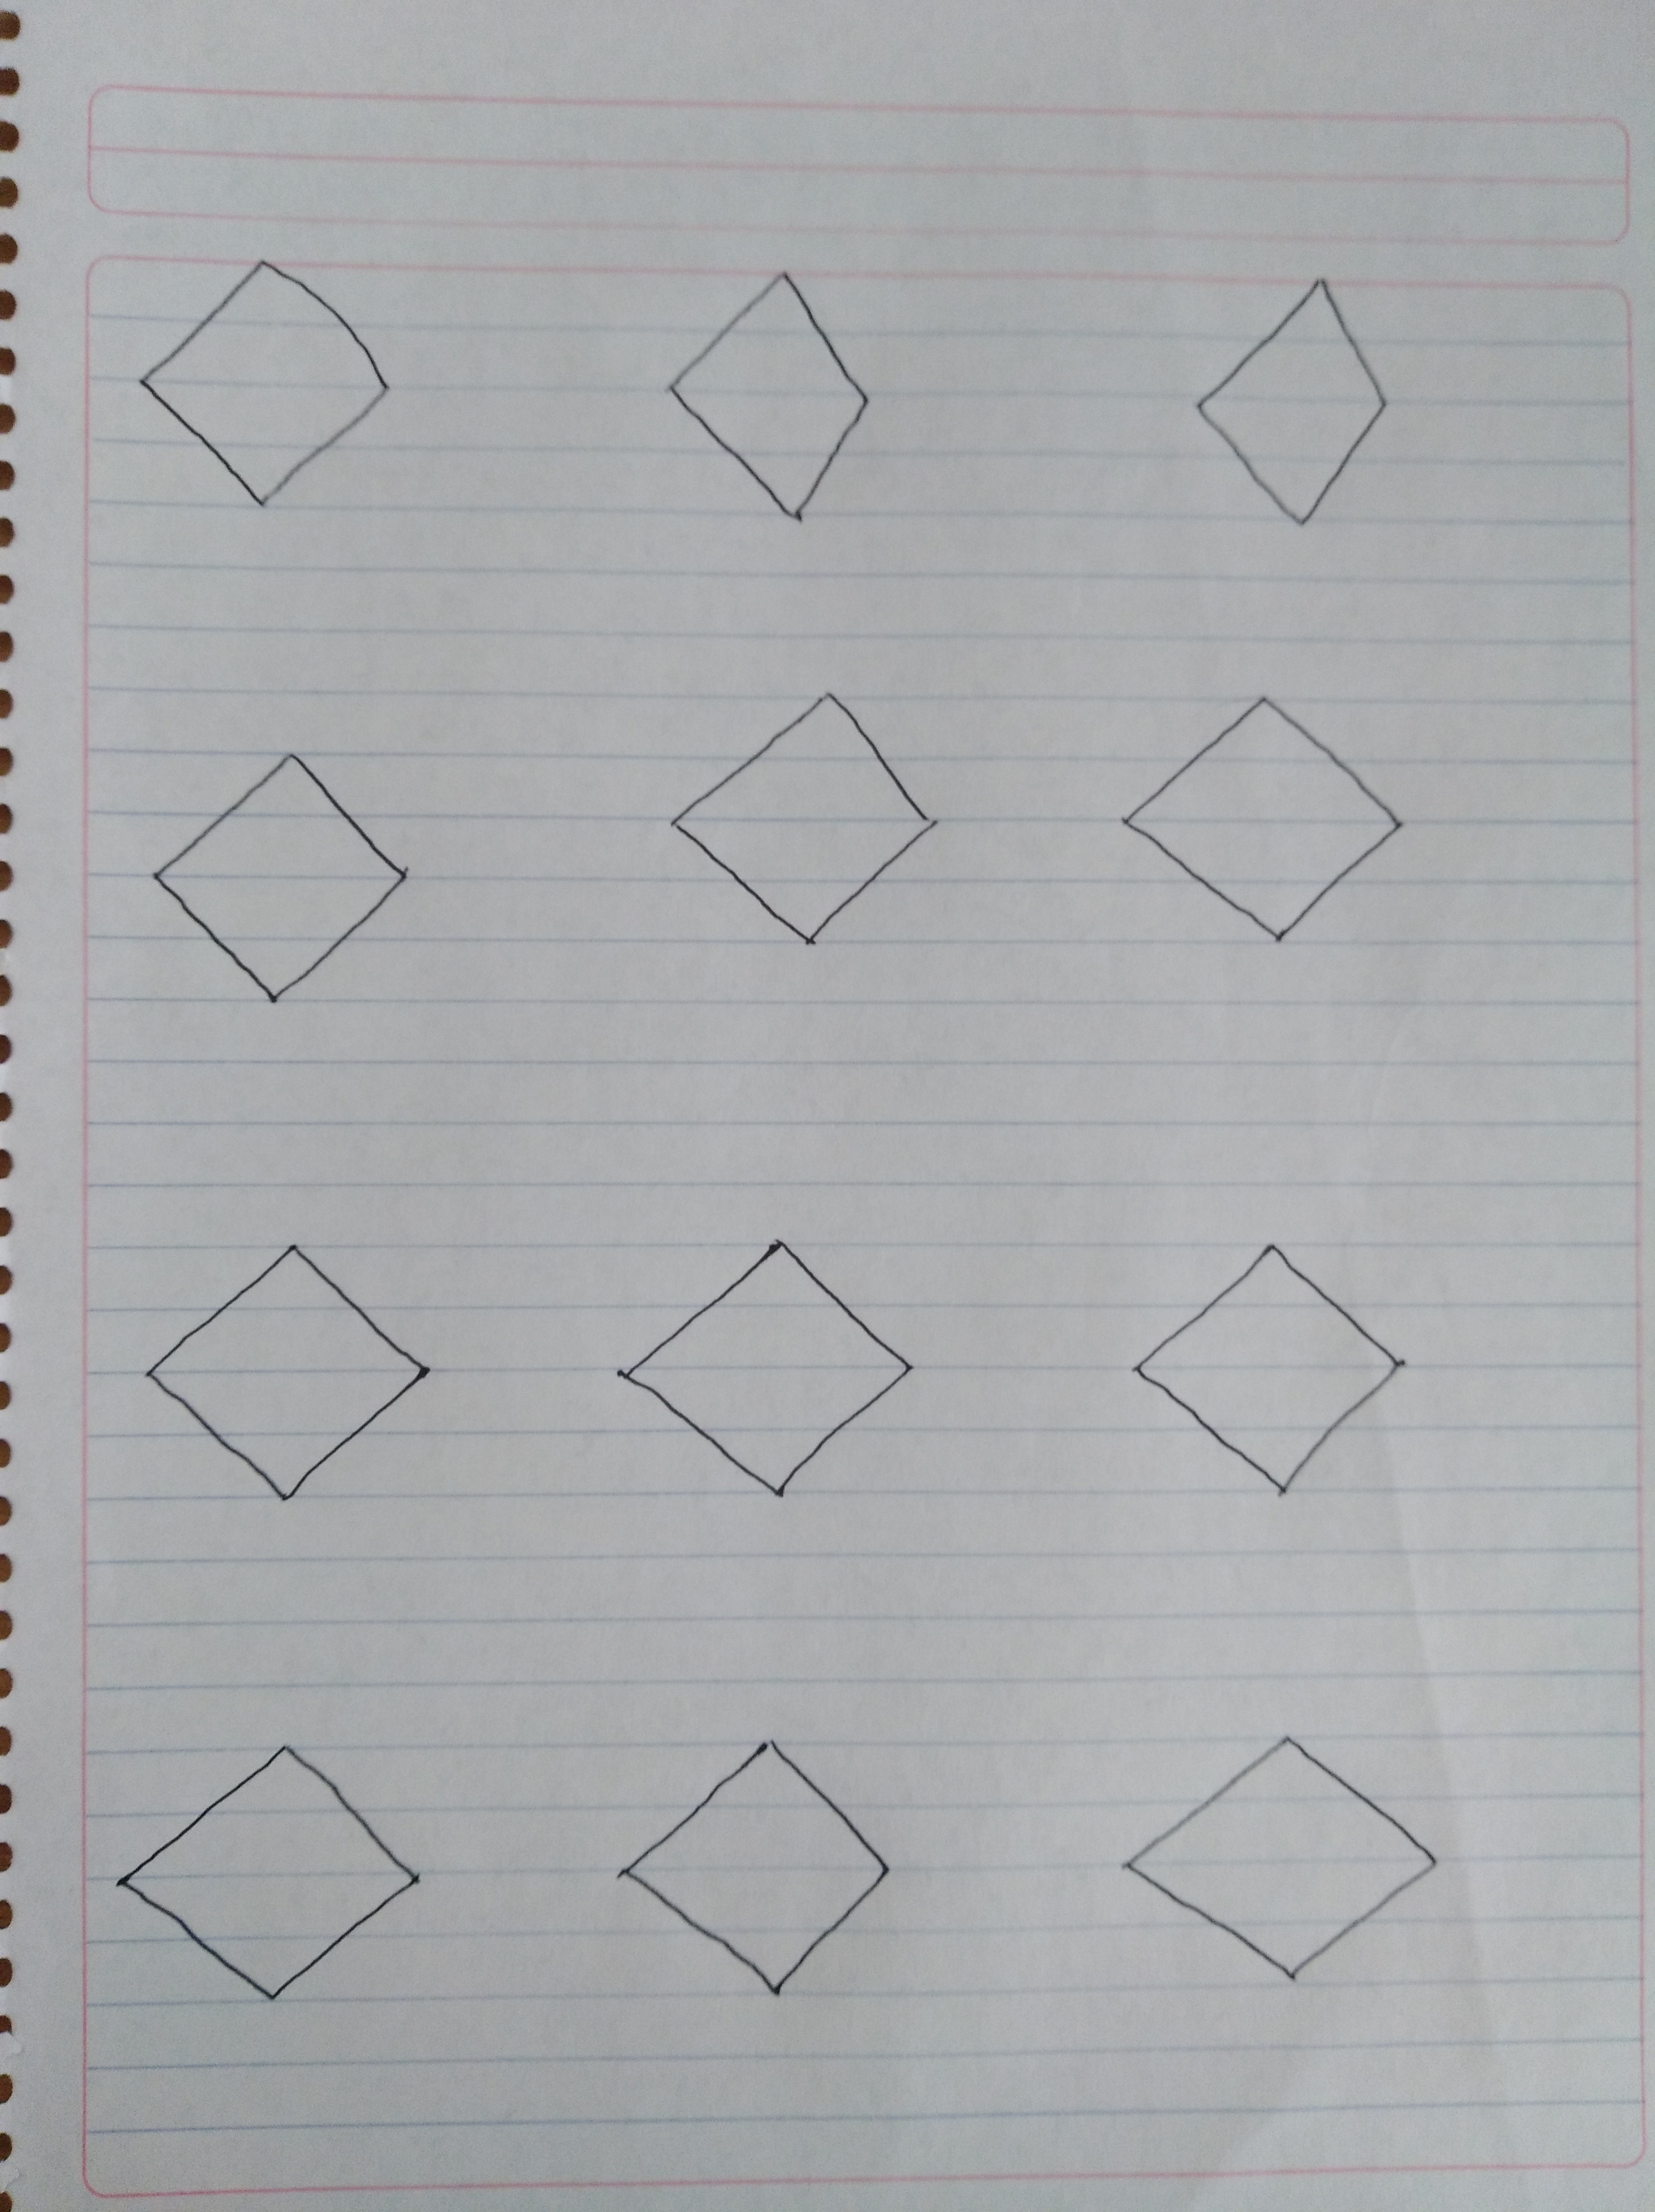decision: (1080, 1699, 1495, 2017), (1080, 1206, 1481, 1534), (1083, 660, 1453, 985), (92, 1713, 459, 2031), (108, 1206, 473, 1517), (593, 1209, 949, 1527), (586, 1710, 942, 2017), (640, 667, 989, 975), (106, 732, 459, 1027), (106, 231, 424, 530), (1147, 245, 1443, 558), (640, 242, 901, 558)
